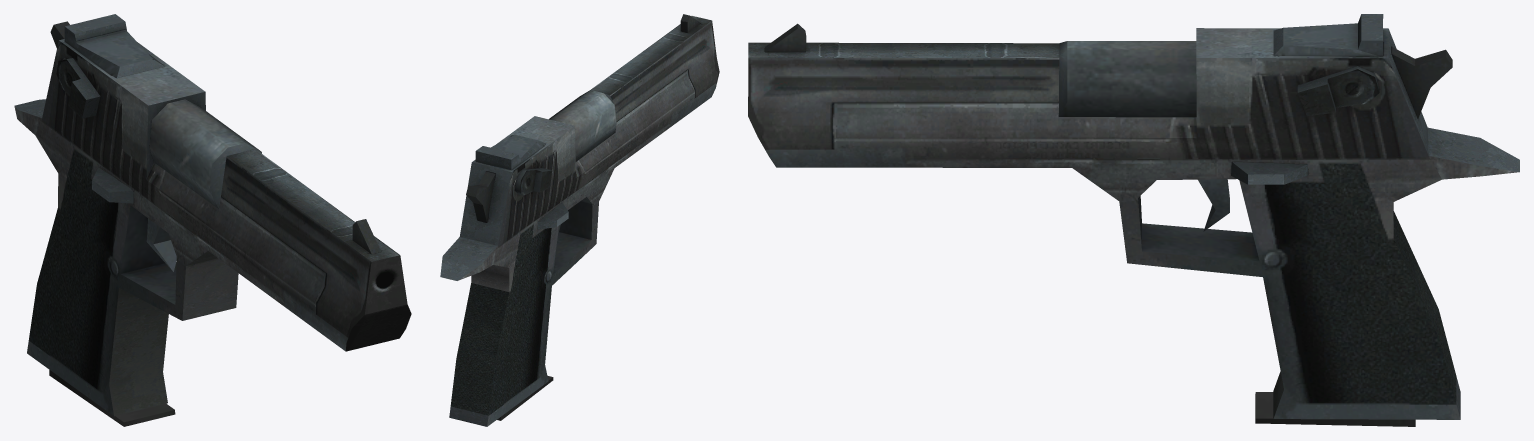
Rendered from deagle.FBX.
3 views of the same model, side by side, from view 1: azimuth 30°, elevation 25°; view 2: azimuth 150°, elevation 25°; view 3: azimuth 270°, elevation 25° (orthographic). The views are drawn at different scales.
Parts seen in each view (by area): view 1: SMDImporter.Mesh.w_pist_deagle; view 2: SMDImporter.Mesh.w_pist_deagle; view 3: SMDImporter.Mesh.w_pist_deagle.
Boxes of the visible parts, x1,y1,x2,y2 form: SMDImporter.Mesh.w_pist_deagle: (14,14,411,426); SMDImporter.Mesh.w_pist_deagle: (440,14,719,426); SMDImporter.Mesh.w_pist_deagle: (748,14,1519,426).
Size of the model in its own units: 4.38 by 17.06 by 30.87.
